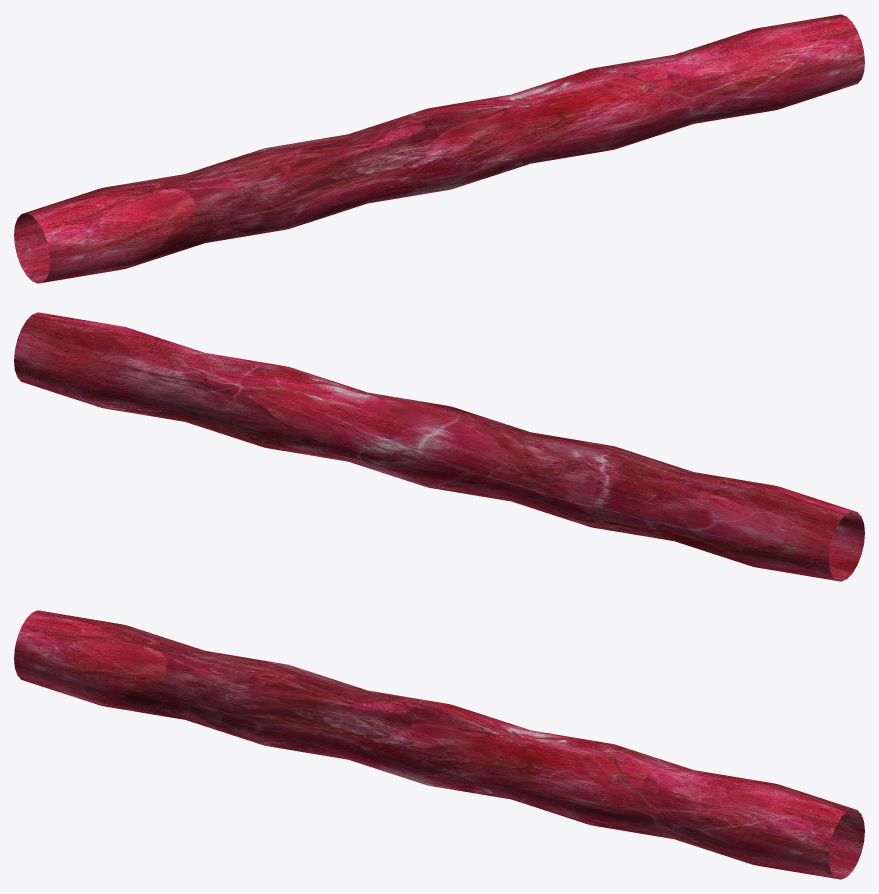
The model's file is vein_animation_draft_geo.fbx.
3 views of the same model, one above another, from view 1: azimuth 30°, elevation 25°; view 2: azimuth 150°, elevation 25°; view 3: azimuth 330°, elevation 25° (orthographic).
Visible parts, largest first — view 1: vein_draft_geo; view 2: vein_draft_geo; view 3: vein_draft_geo.
Part boxes in pixels (x1,y1,x2,y2): vein_draft_geo: (14, 14, 864, 283); vein_draft_geo: (14, 312, 864, 581); vein_draft_geo: (14, 610, 864, 879).
Bounding box in the file's own units: 26 × 2.35 × 2.35.
